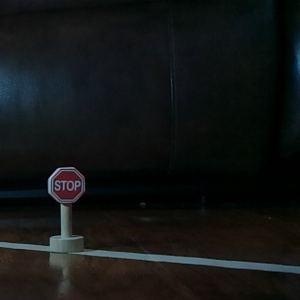stop sign: (44, 163, 89, 256)
